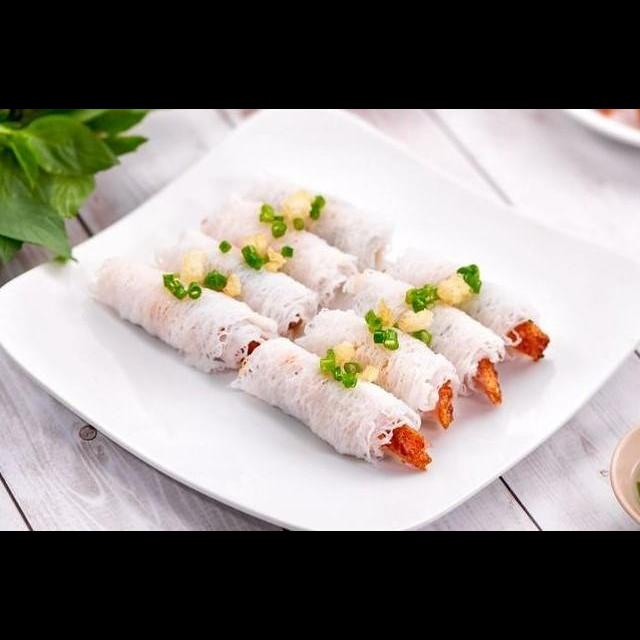banh hoi: (222, 333, 423, 468), (85, 250, 283, 378), (336, 267, 510, 399), (285, 302, 469, 424), (189, 189, 364, 317), (145, 221, 322, 346), (383, 245, 531, 363), (237, 173, 396, 281)
banh hoi heo quay: (26, 146, 609, 531)
thit heo quay: (374, 419, 436, 471), (498, 313, 554, 369), (464, 352, 508, 410), (419, 374, 460, 433)
